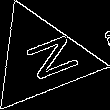N_SW: (8, 31, 75, 87)
